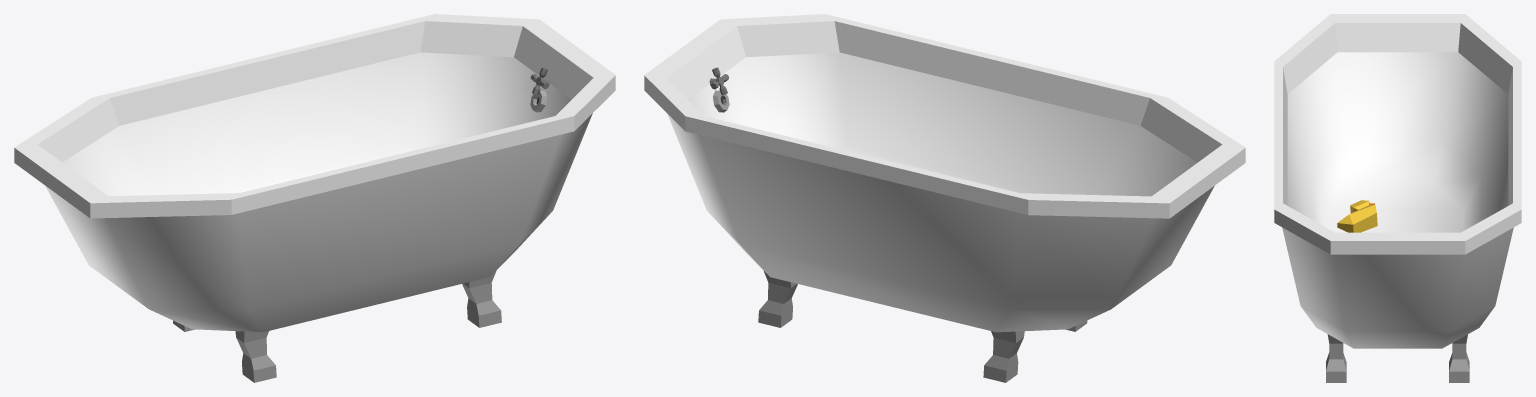
The model's file is Bathtub.glb.
3 views of the same model, side by side, from view 1: azimuth 30°, elevation 25°; view 2: azimuth 150°, elevation 25°; view 3: azimuth 270°, elevation 25° (orthographic). The views are drawn at different scales.
Visible parts, largest first — view 1: Bathtub; view 2: Bathtub; view 3: Bathtub.
Boxes of the visible parts, left/top/right/bottom form: Bathtub: left=14, top=14, right=615, bottom=382; Bathtub: left=644, top=14, right=1245, bottom=382; Bathtub: left=1274, top=14, right=1521, bottom=382.
Bounding box in the file's own units: 1.99 × 0.7872 × 0.9172.
1 material, 1 textured.
